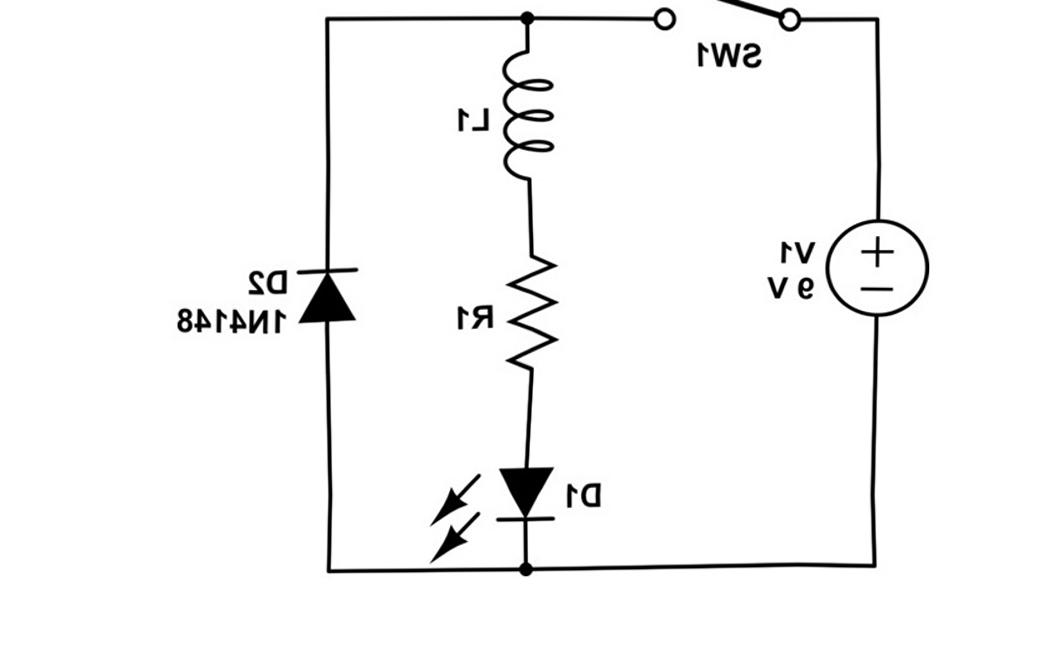Battery: (808, 204, 941, 341)
